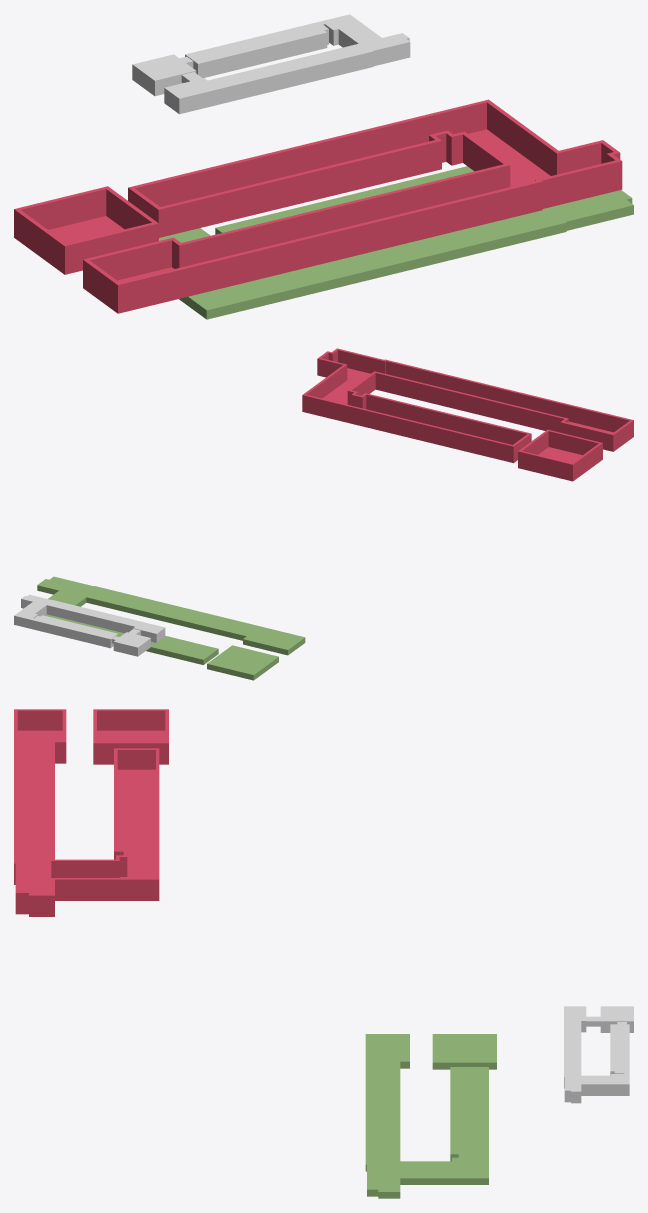
File: ergqedvsdrg.glb
The picture shows the model from 3 angles, top to bottom: view 1: azimuth 30°, elevation 25°; view 2: azimuth 150°, elevation 25°; view 3: azimuth 270°, elevation 25°; orthographic projection. The views are drawn at different scales.
Parts seen in each view (by area): view 1: F1, F2, Cube; view 2: F1, F2, Cube; view 3: F1, F2, Cube.
Boxes of the visible parts, bbox=[...] form: F1: bbox=[14, 99, 622, 313]; F2: bbox=[159, 166, 633, 319]; Cube: bbox=[132, 14, 410, 114]; F1: bbox=[302, 348, 633, 481]; F2: bbox=[37, 576, 305, 680]; Cube: bbox=[14, 594, 165, 656]; F1: bbox=[14, 709, 168, 916]; F2: bbox=[365, 1034, 496, 1198]; Cube: bbox=[564, 1006, 633, 1103].
Size of the model in its own units: 15.33 by 5.53 by 14.55.
